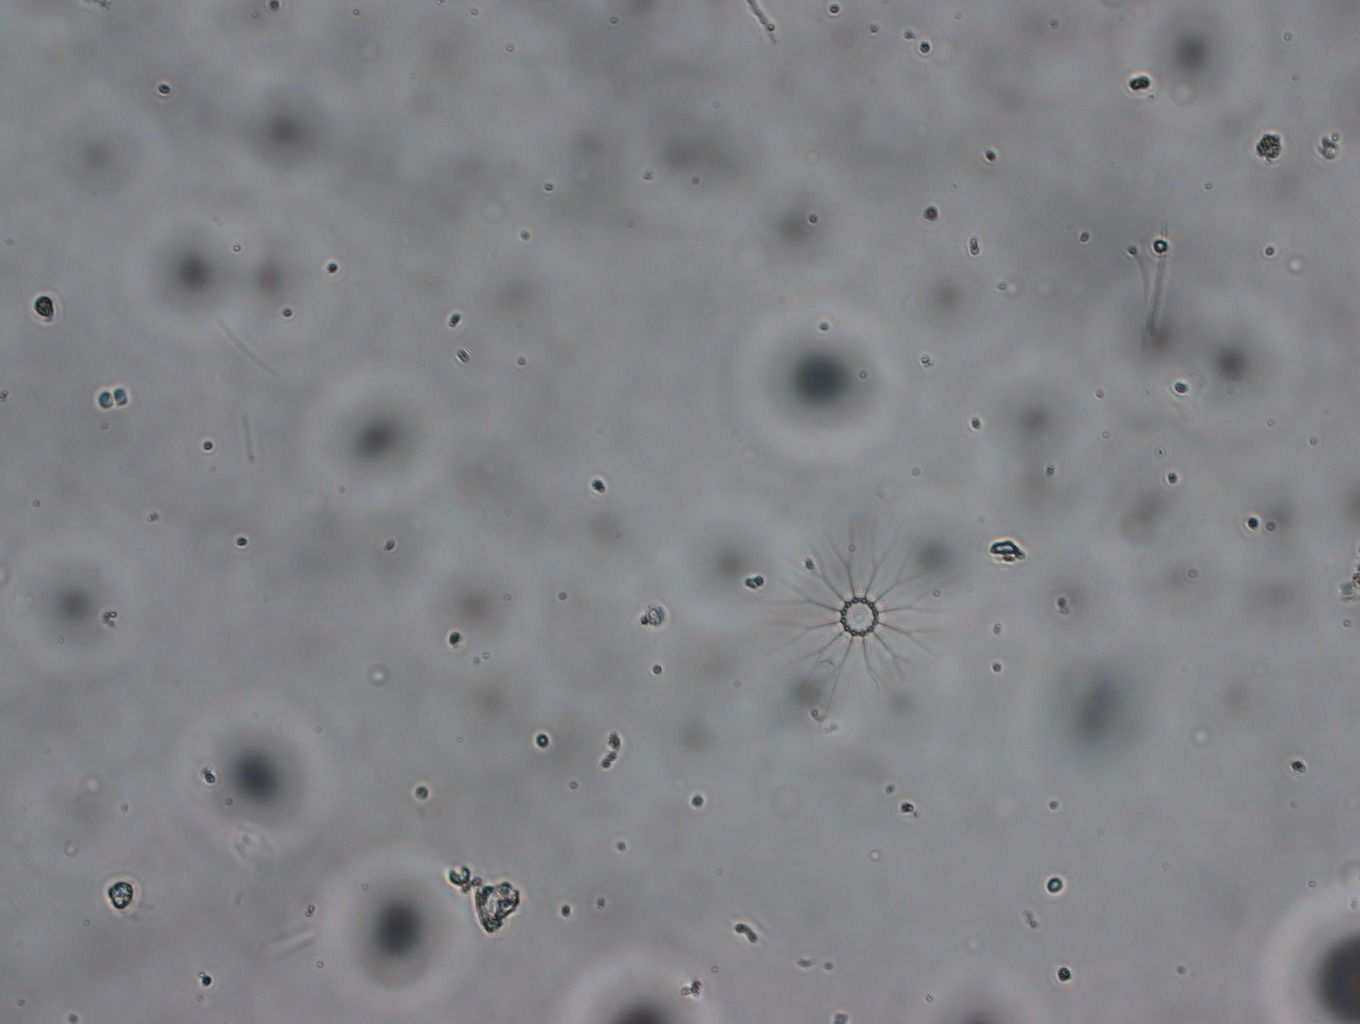bacteriastrum: (764, 513, 949, 727)
